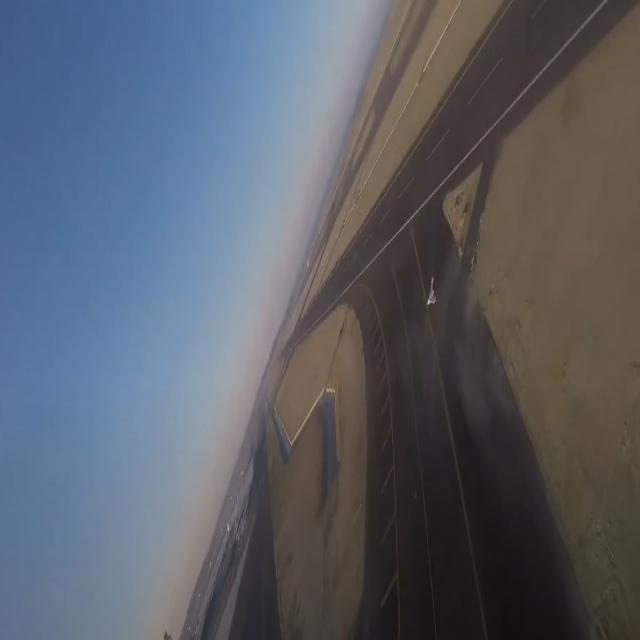iha: (430, 274, 433, 306)
